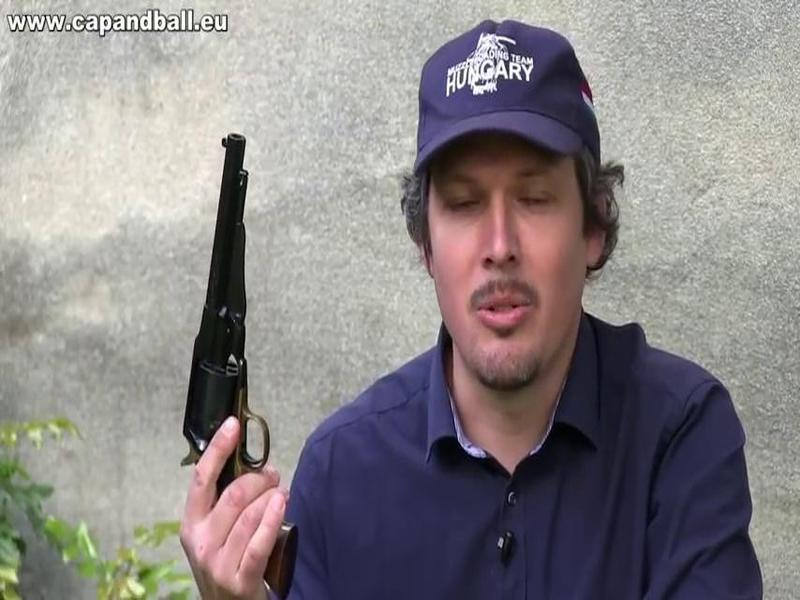Revolver: (161, 129, 337, 583)
